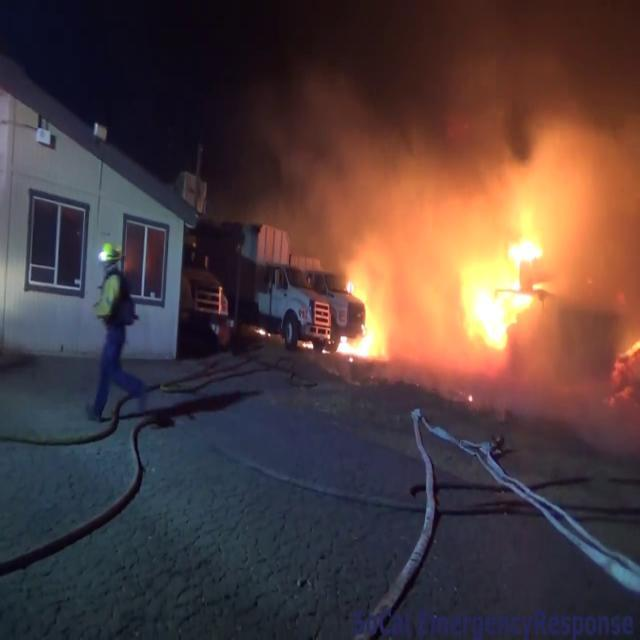Fire: (458, 214, 556, 352), (334, 269, 388, 365)
Smoke: (227, 1, 640, 249)
